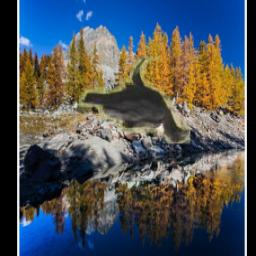Crow: (79, 57, 190, 145)
